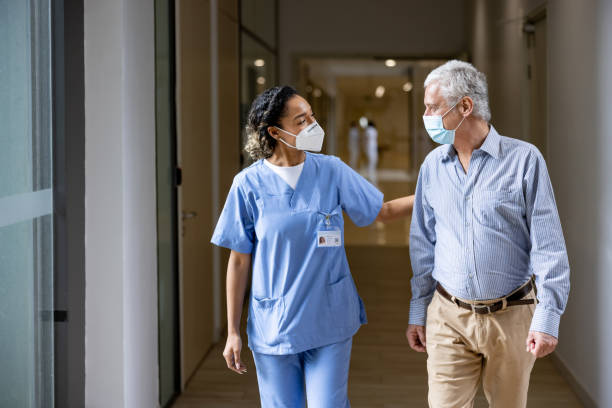with mask: (415, 56, 490, 147), (250, 89, 331, 154)
